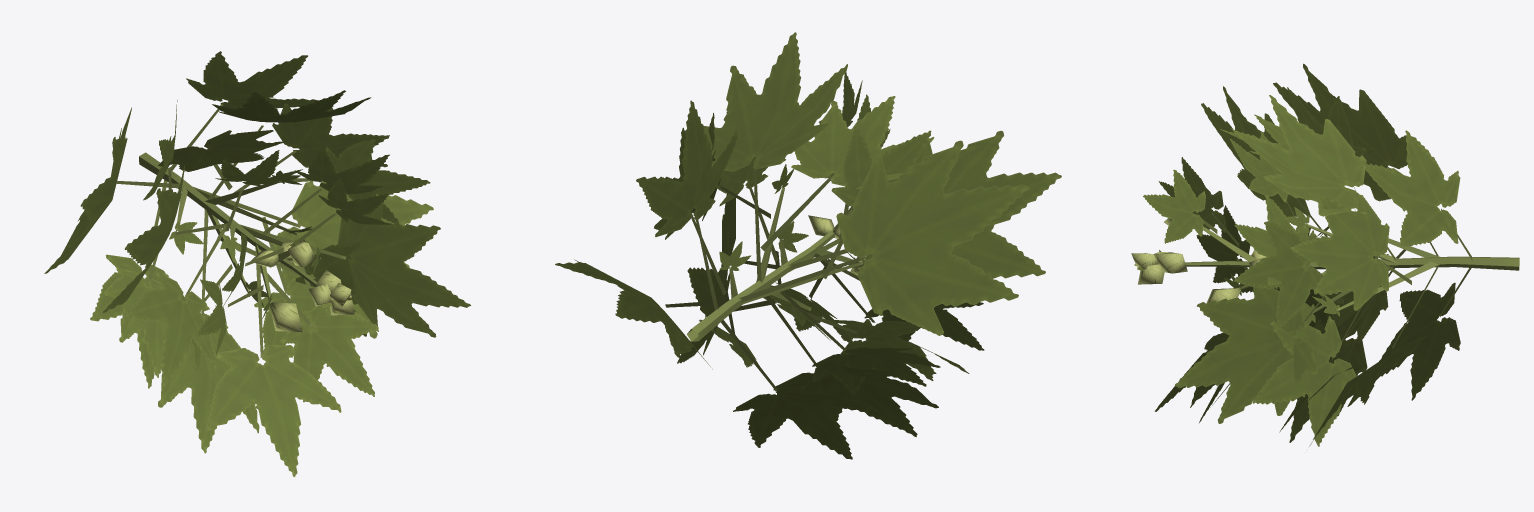
File: p_male_kush_preflower_c1_cards.obj
The picture shows the model from 3 angles, left to right: view 1: azimuth 30°, elevation 25°; view 2: azimuth 150°, elevation 25°; view 3: azimuth 270°, elevation 25°; orthographic projection. The views are drawn at different scales.
Bounding box in the file's own units: 1.63 × 1.31 × 1.12.
1 material, 1 textured.
